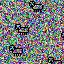sheep: (29, 1, 44, 12), (15, 24, 29, 35), (9, 45, 23, 56), (48, 57, 62, 64)
